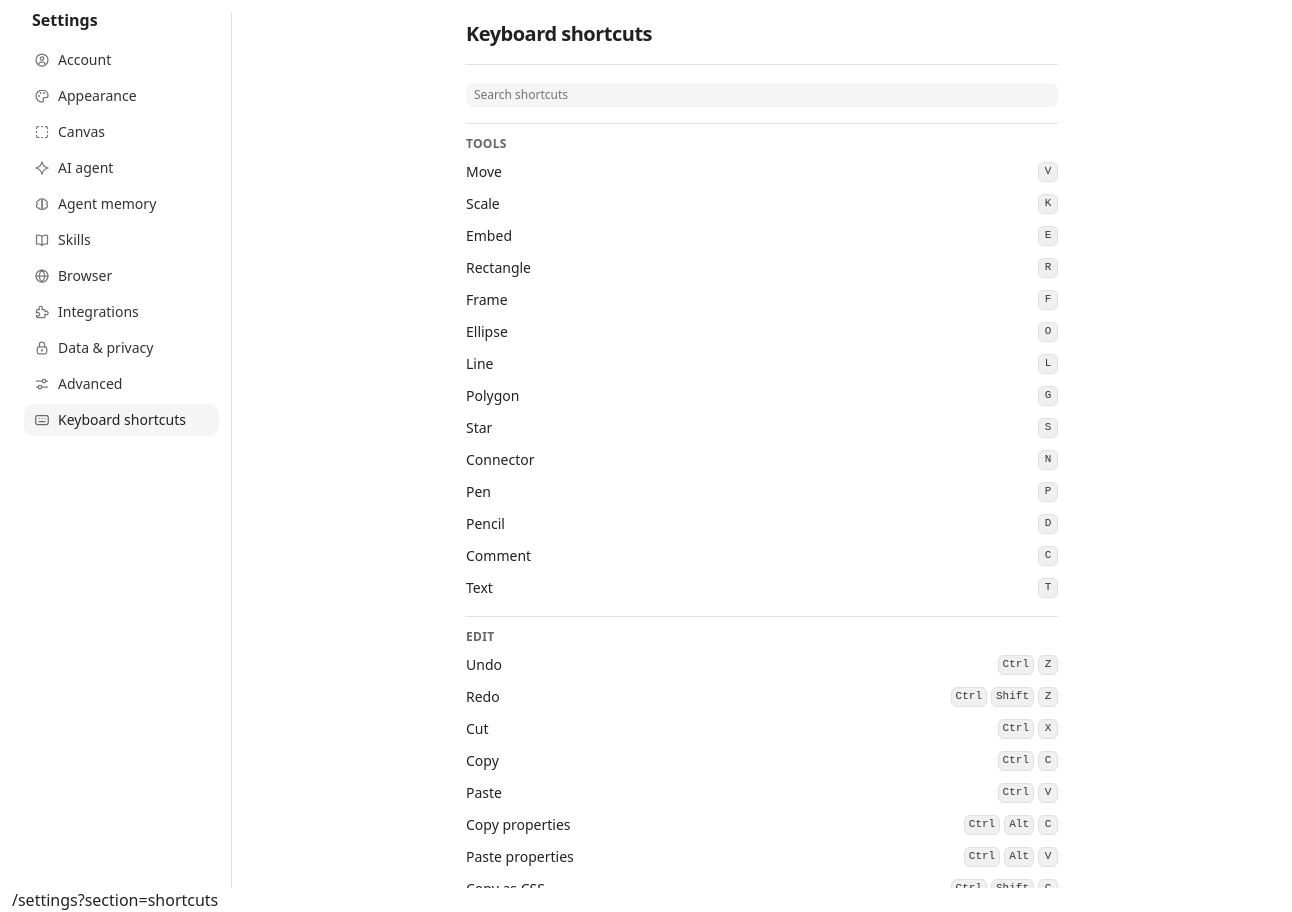
Test: <SettingsPage /> › lists shortcuts and filters them by label
(page scrolled)
Type "zzzz-none" into the search field labelled "Search shortcuts" at (762, 94), box [466, 82, 1058, 106]
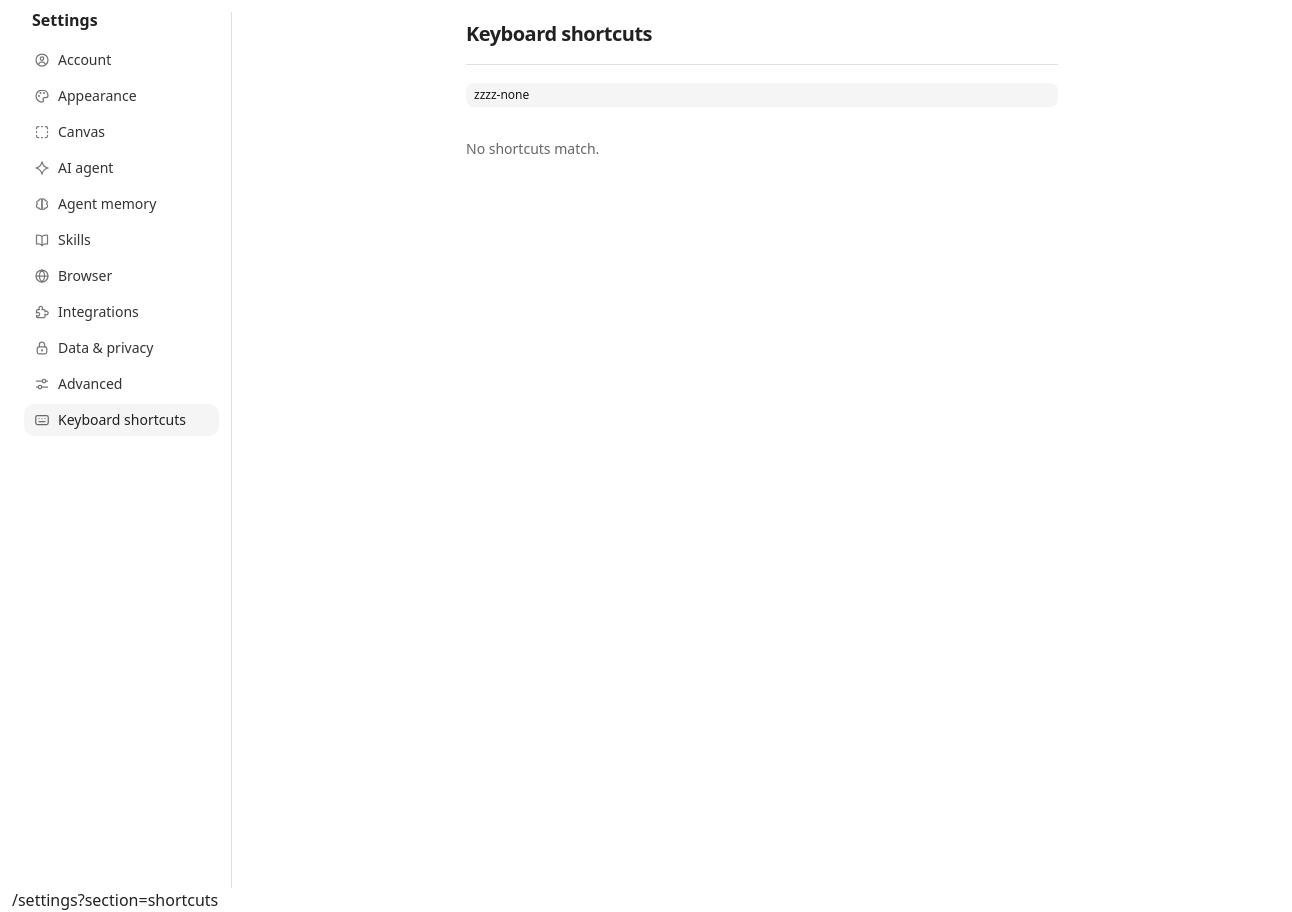
Now the text "No shortcuts match." is shown, box [466, 138, 599, 158]
